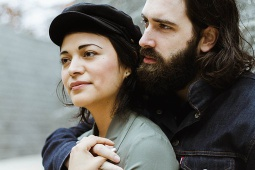female: (46, 12, 133, 113)
male: (138, 1, 216, 89)
